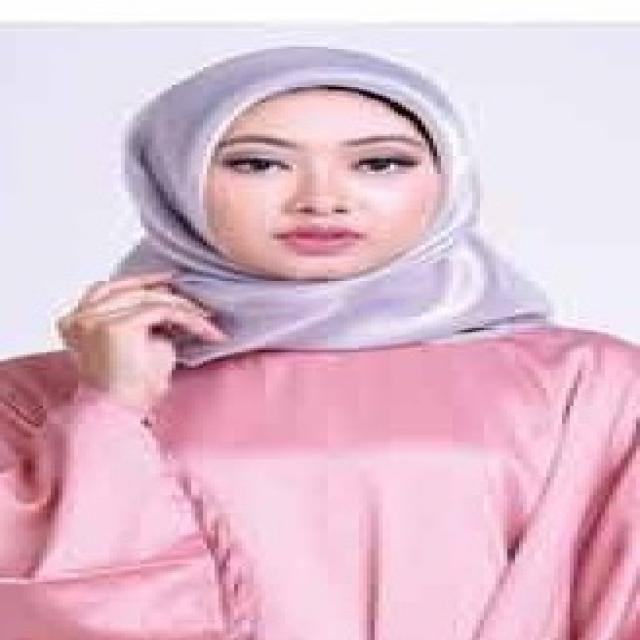head: (126, 40, 509, 287)
